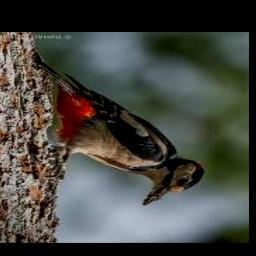Woodpecker: (32, 51, 204, 206)
